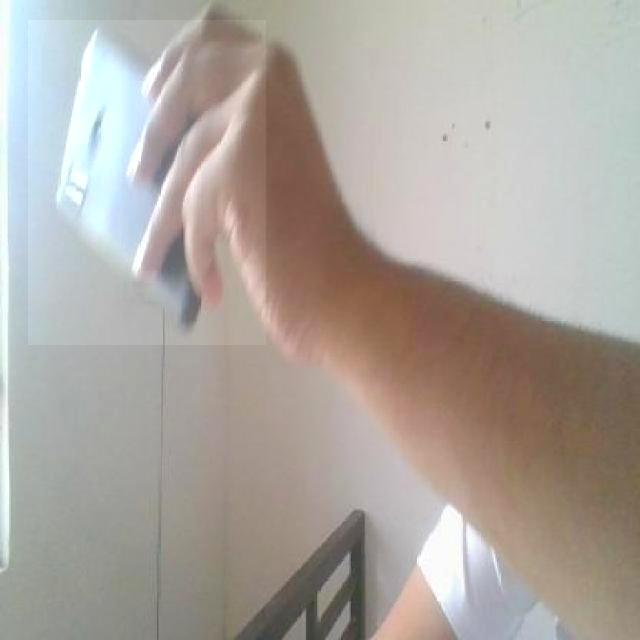phone: (27, 18, 197, 334)
